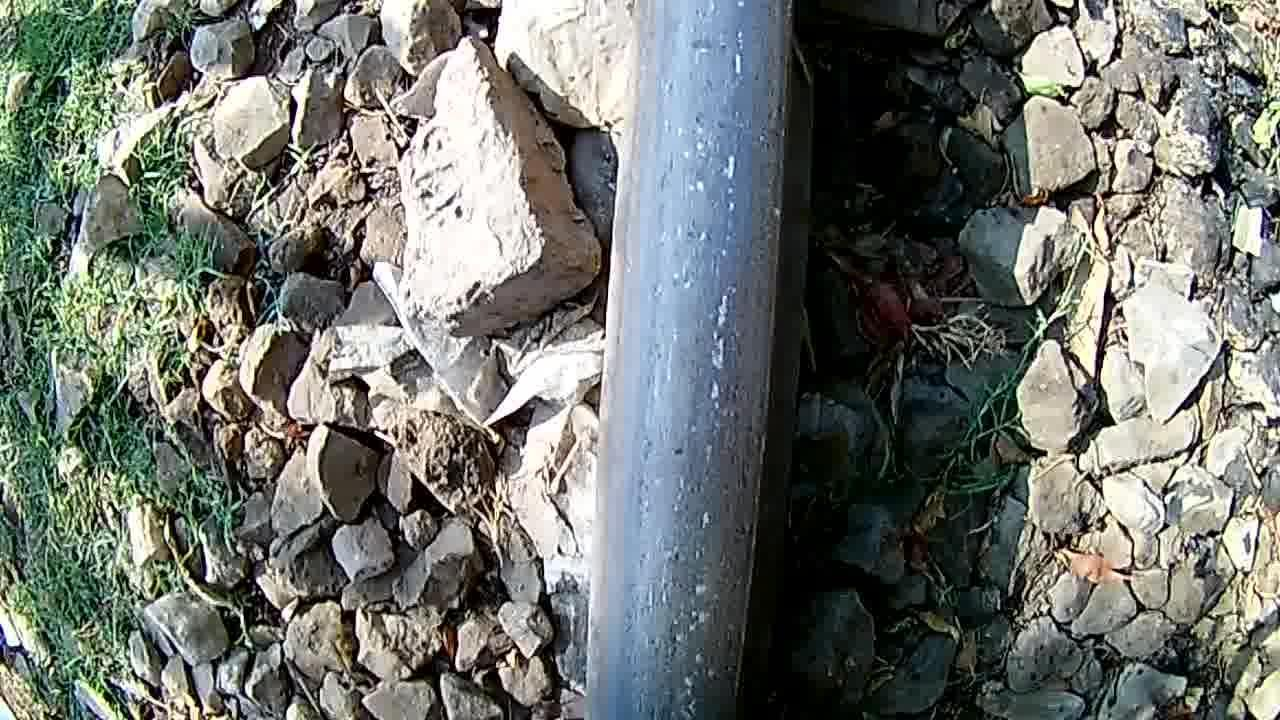crack: (588, 0, 790, 720)
